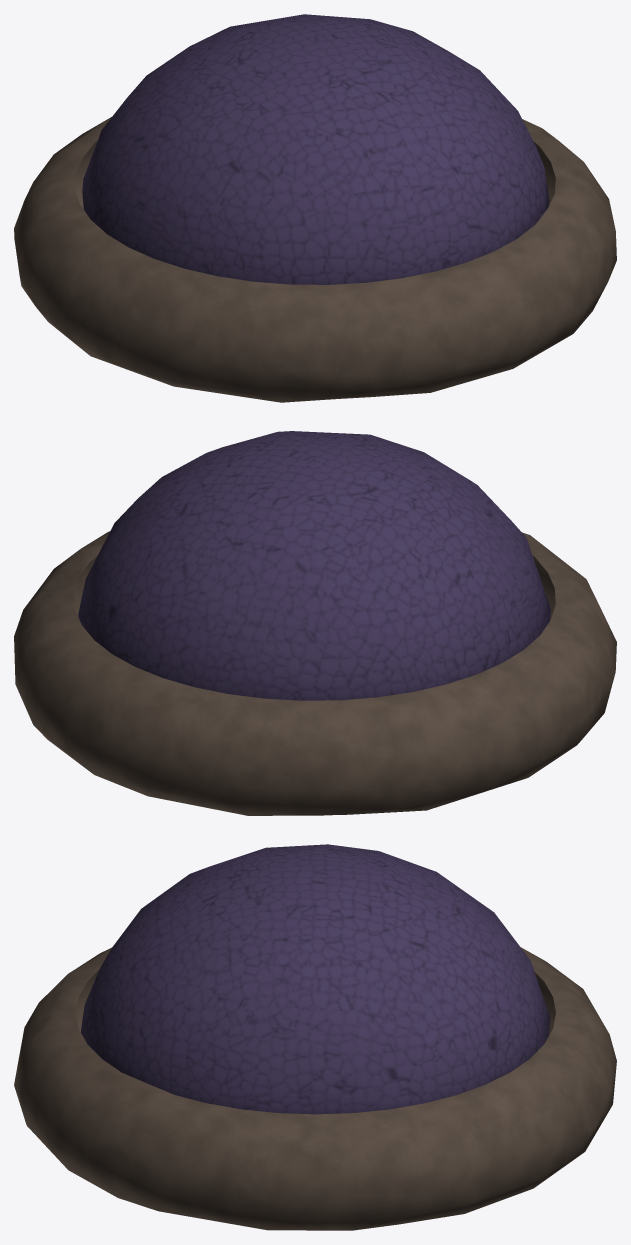
The model's file is cpart_compound_eye.glb.
3 renders of one model, top to bottom at view 1: azimuth 30°, elevation 25°; view 2: azimuth 150°, elevation 25°; view 3: azimuth 270°, elevation 25°, orthographic.
Visible parts, largest first — view 1: CompoundEye, Rim; view 2: CompoundEye, Rim; view 3: CompoundEye, Rim.
Part boxes in pixels (x1,y1,x2,y2): CompoundEye: [82, 14, 549, 284]; Rim: [14, 117, 616, 402]; CompoundEye: [78, 431, 550, 700]; Rim: [14, 531, 616, 815]; CompoundEye: [81, 844, 550, 1114]; Rim: [14, 947, 616, 1230].
Size of the model in its own units: 0.1078 by 0.0487 by 0.108.
Materials: 2 (2 with a texture image).
